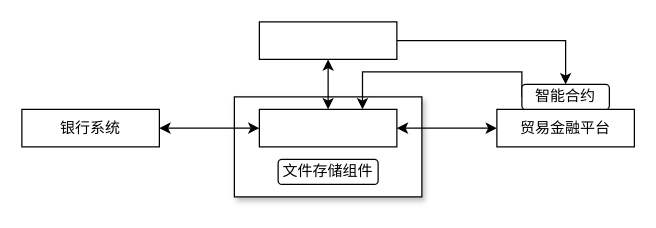
The diagram is 656 pixels wide and 228 high, and some of its shapes have lost their labels. Here are the shapes that lost their labels. From the top down, the centre of each, then its label:
(x=327, y=40): 隐私信息存储于共享服务
(x=327, y=127): 文件存储于共享服务
